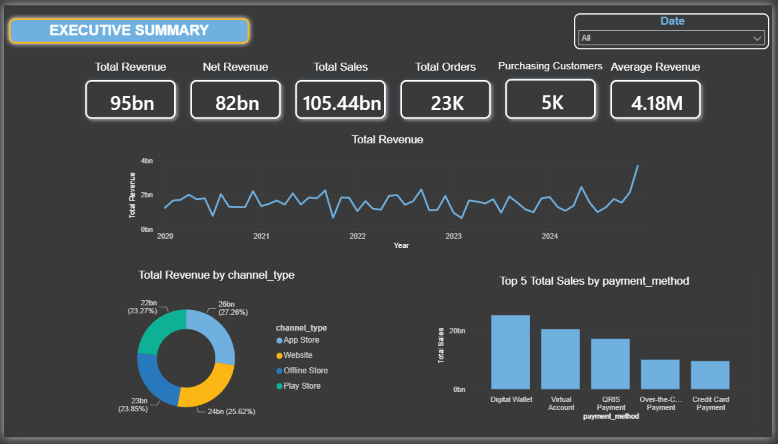

The page's visual inventory and layout, read from the dashboard file:
{"tool":"powerbi","page":{"name":"EXECUTIVE SUMMARY","canvas":[1280,720],"ordinal":0},"visuals":[{"type":"cardVisual","title":"Total Revenue","fields":{"Data":["fact_order.Total Revenue"]},"box":[123.9,92.2,175,110],"z":0},{"type":"lineChart","title":"Total Revenue","fields":{"Category":["dim_date1.year_month.Variation.Date Hierarchy.Year","dim_date1.year_month.Variation.Date Hierarchy.Month"],"Y":["fact_order.Total Revenue"]},"box":[203.3,213.3,871.7,198.3],"z":1000},{"type":"donutChart","fields":{"Category":["fact_order.channel_type"],"Y":["fact_order.Total Revenue"]},"box":[148.3,438.3,411.7,268.3],"z":2000},{"type":"clusteredColumnChart","title":"Top 5 Total Sales by payment_method","fields":{"Category":["dim_payment.payment_method"],"Y":["transaction_detail.Total Sales"]},"box":[718.3,448.3,531.1,247.7],"z":3000},{"type":"slicer","title":"Date","fields":{"Values":["dim_date1.year","dim_date1.quarter","dim_date1.month"]},"box":[950,13.3,325,60],"z":4000},{"type":"cardVisual","title":"Net Revenue","fields":{"Data":["fact_order.Net Revenue"]},"box":[298.3,92.2,175,110],"z":5000},{"type":"cardVisual","title":"Total Sales","fields":{"Data":["transaction_detail.Total Sales"]},"box":[473.3,92.2,175,110],"z":6000},{"type":"cardVisual","title":"Total Orders","fields":{"Data":["fact_order.Total Orders"]},"box":[648.3,92.2,175,110],"z":7000},{"type":"cardVisual","title":"Purchasing Customers","fields":{"Data":["fact_order.Customers with Purchase"]},"box":[823.3,92.2,175,110],"z":8000},{"type":"cardVisual","title":"Average Revenue","fields":{"Data":["fact_order.Average Revenue per Order"]},"box":[998.3,92.2,175,110],"z":9000},{"type":"shape","box":[0,12.9,417.1,58.6],"z":10000},{"type":"textbox","title":"EXECUTIVE SUMMARY","box":[31.7,28.3,353.3,30],"z":11000}]}

Visuals, with their boxes in screenshot pixels (x1, y1, x2, y2), scaled from the page's 1280x720 canvas onto the 778x444 screenshot:
"Total Revenue" cardVisual: box=[75, 57, 182, 125]
"Total Revenue" lineChart: box=[124, 132, 653, 254]
donutChart - fact_order.channel_type x fact_order.Total Revenue: box=[90, 270, 340, 436]
"Top 5 Total Sales by payment_method" clusteredColumnChart: box=[437, 276, 759, 429]
"Date" slicer: box=[577, 8, 775, 45]
"Net Revenue" cardVisual: box=[181, 57, 288, 125]
"Total Sales" cardVisual: box=[288, 57, 394, 125]
"Total Orders" cardVisual: box=[394, 57, 500, 125]
"Purchasing Customers" cardVisual: box=[500, 57, 607, 125]
"Average Revenue" cardVisual: box=[607, 57, 713, 125]
shape: box=[0, 8, 254, 44]
"EXECUTIVE SUMMARY" textbox: box=[19, 17, 234, 36]
